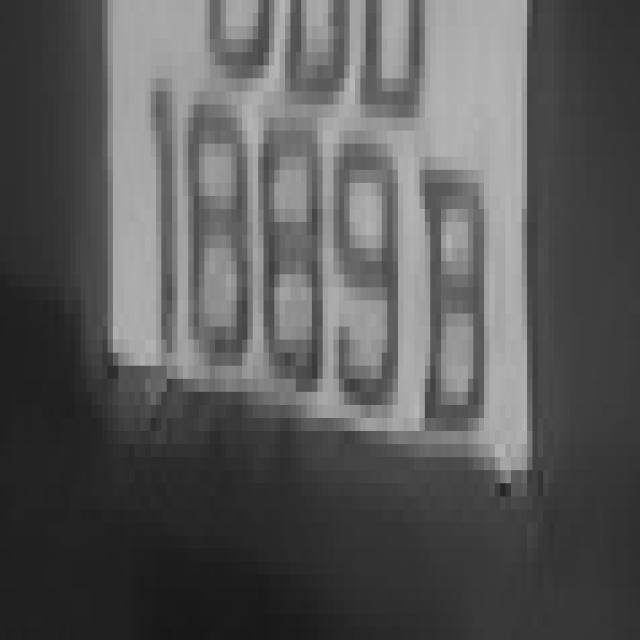1: (140, 65, 183, 405)
8: (172, 78, 253, 418), (247, 92, 323, 444)
9: (323, 105, 414, 444)
B: (419, 105, 495, 457)
